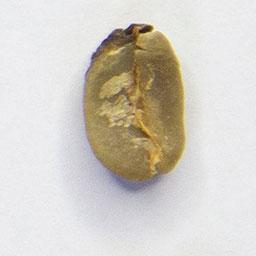defect: (78, 18, 191, 186)
